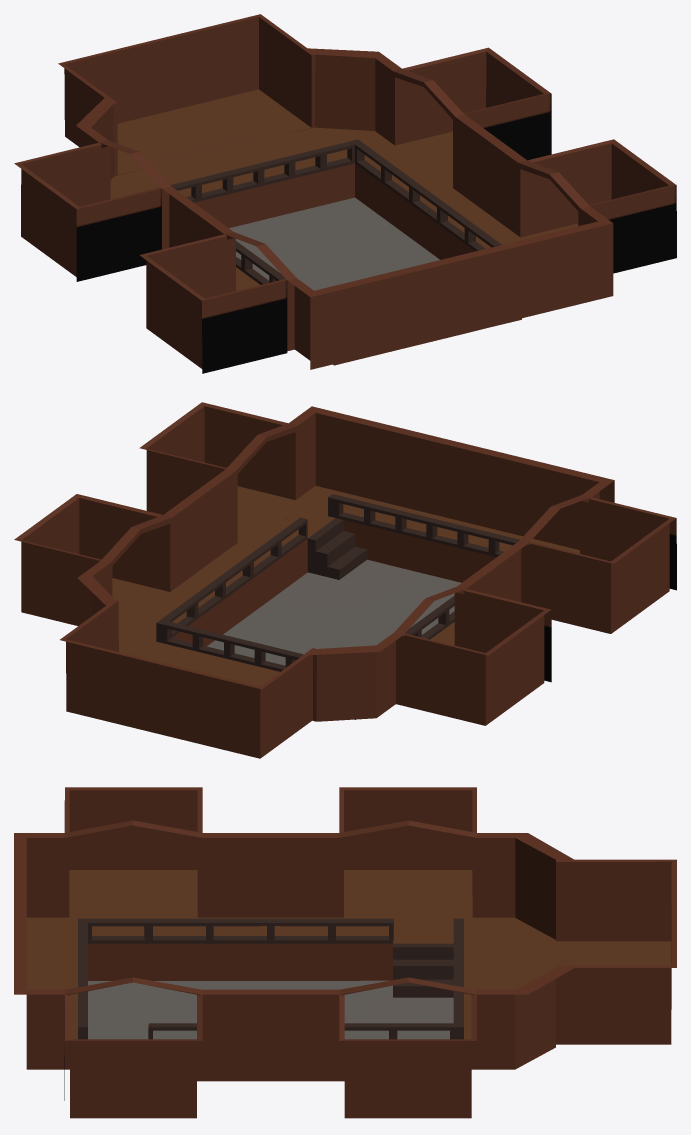
Rendered from Enviorment_Unwapped_Coloured.fbx.
3 views of the same model, one above another, from view 1: azimuth 30°, elevation 25°; view 2: azimuth 150°, elevation 25°; view 3: azimuth 270°, elevation 25° (orthographic). The views are drawn at different scales.
Parts seen in each view (by area): view 1: Enivorment; view 2: Enivorment; view 3: Enivorment.
Boxes of the visible parts, <box> form: Enivorment: <box>14,14,676,373</box>; Enivorment: <box>14,402,676,758</box>; Enivorment: <box>14,787,676,1118</box>.
Bounding box in the file's own units: 69.95 × 16.66 × 77.24.
